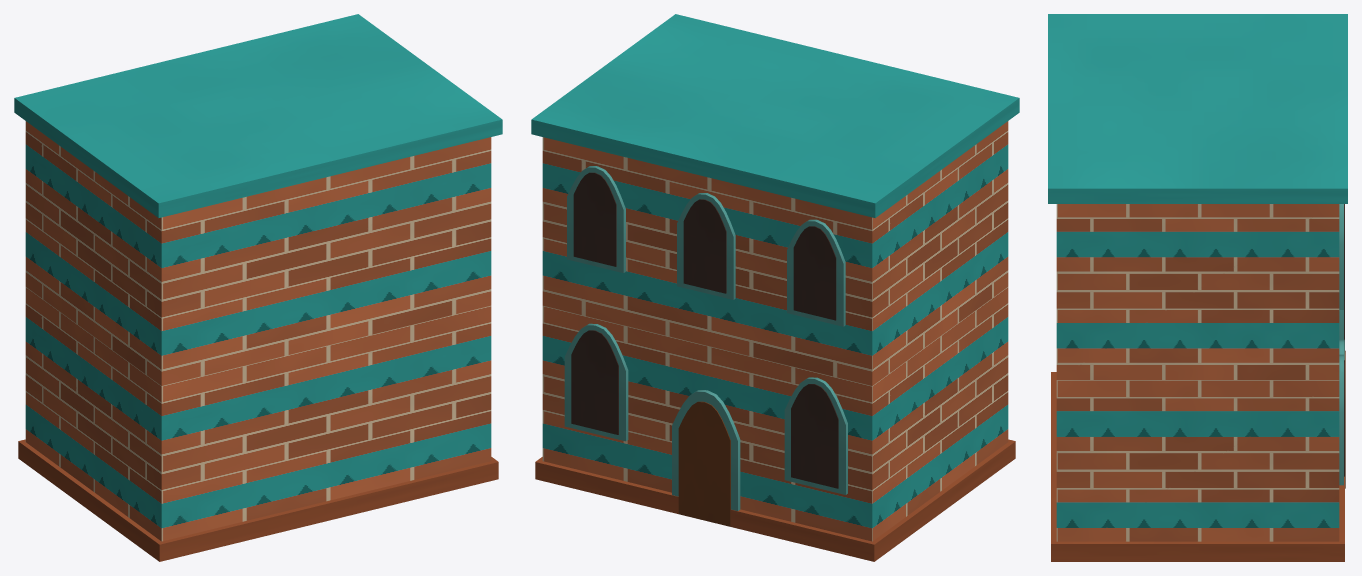
The model's file is env_nax_house_a.glb.
3 renders of one model, left to right at view 1: azimuth 30°, elevation 25°; view 2: azimuth 150°, elevation 25°; view 3: azimuth 270°, elevation 25°, orthographic. The views are drawn at different scales.
Visible parts, largest first — view 1: env_nax_house_a; view 2: env_nax_house_a; view 3: env_nax_house_a.
Boxes of the visible parts, box(x1,y1,x2,y2) form: env_nax_house_a: box(14, 14, 502, 561); env_nax_house_a: box(531, 14, 1019, 561); env_nax_house_a: box(1048, 14, 1347, 561).
Size of the model in its own units: 7.3 by 7.31 by 5.3.
Materials: 1 (1 with a texture image).
